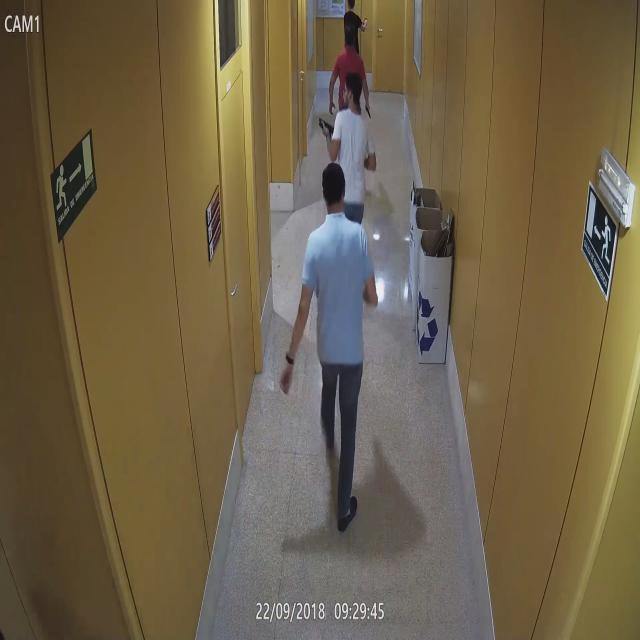weapon: (318, 120, 333, 138), (364, 105, 372, 118)
